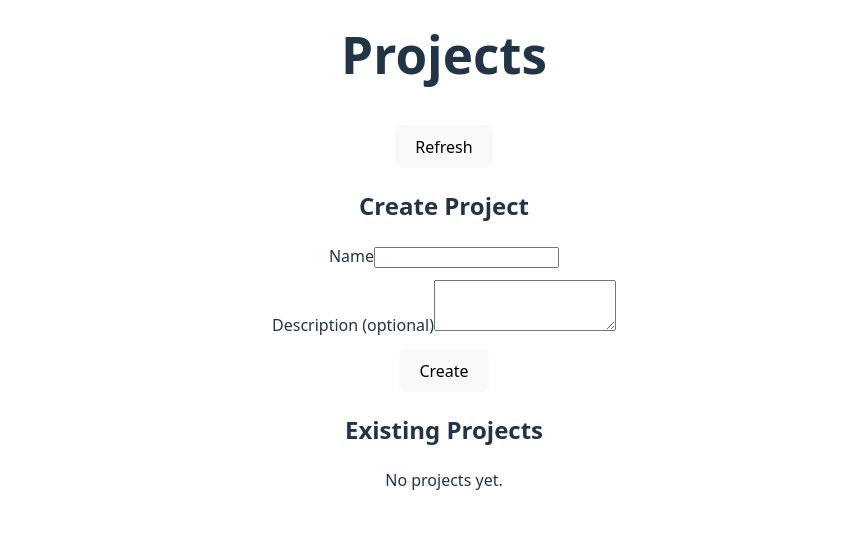
Test: Projects page › creates a project and refreshes the list
# Create form (only one at start)
Step 1. Type "New Project" into the field labelled "Name" → (466, 258), box [374, 247, 559, 268]
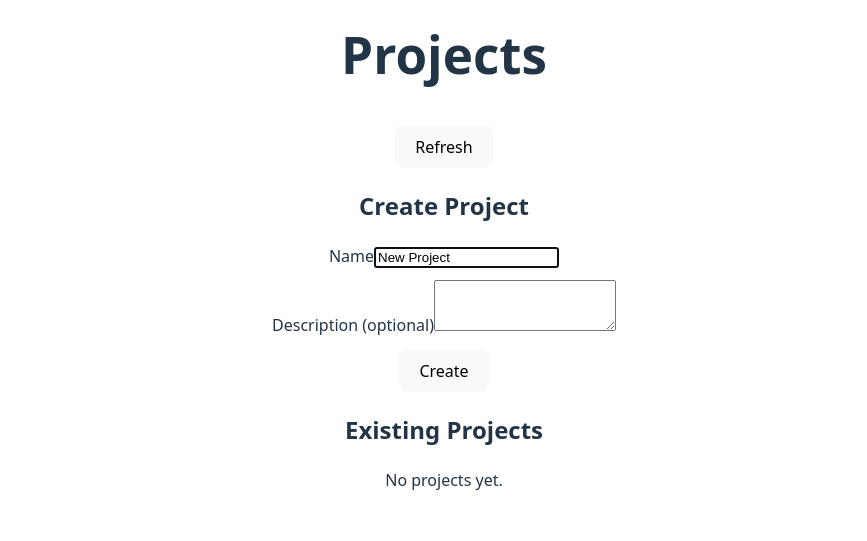
Step 2. Type "Optional" into the text box labelled "Description (optional)" → (525, 306), box [434, 280, 616, 331]
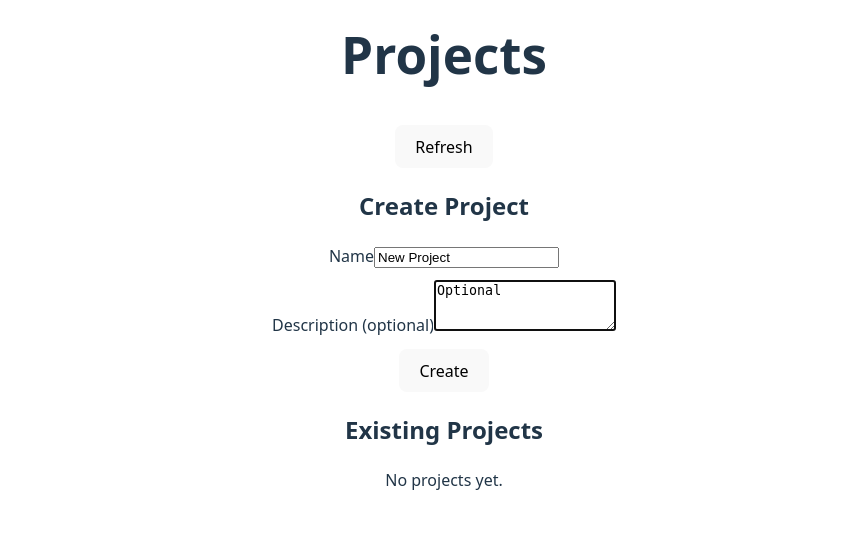
Step 3. Click the button "Create" → (444, 371), box [399, 349, 489, 392]
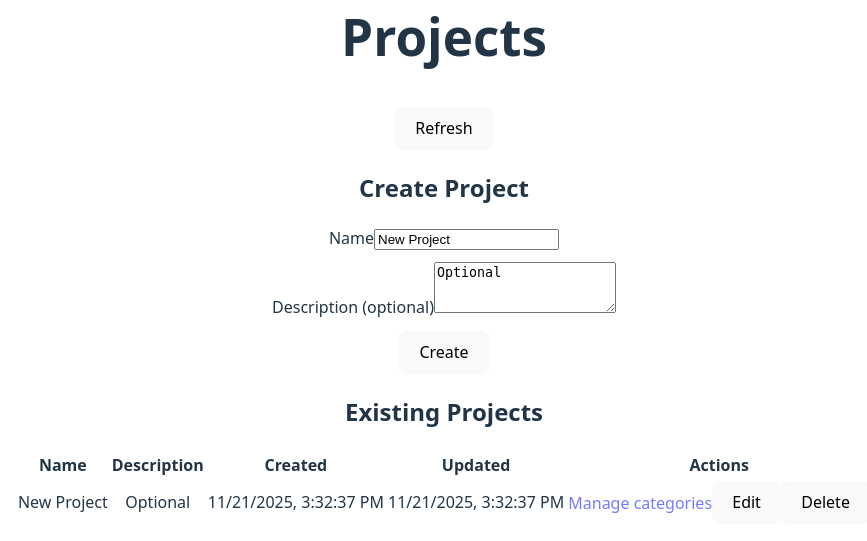
Check: the text "New Project" is shown, box [17, 480, 109, 525]
